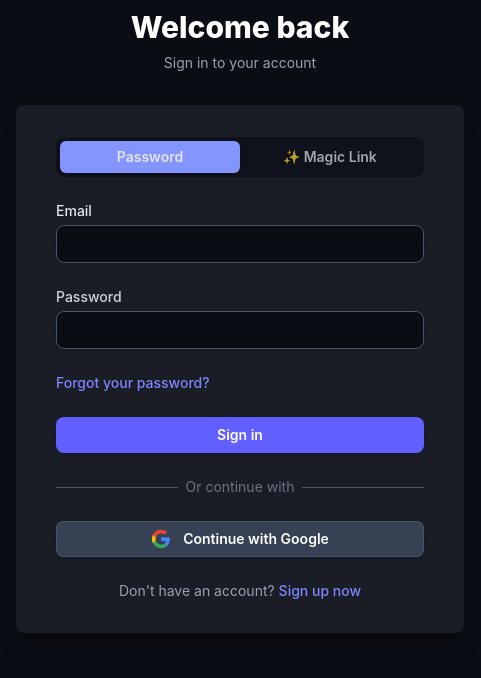
Test: UserLoginForm Component › validates email input and prevents submission when invalid
This screenshot has width=481, height=678.
Type "not-an-email" into the field labelled "Email" at (240, 244), box [56,225,424,263]
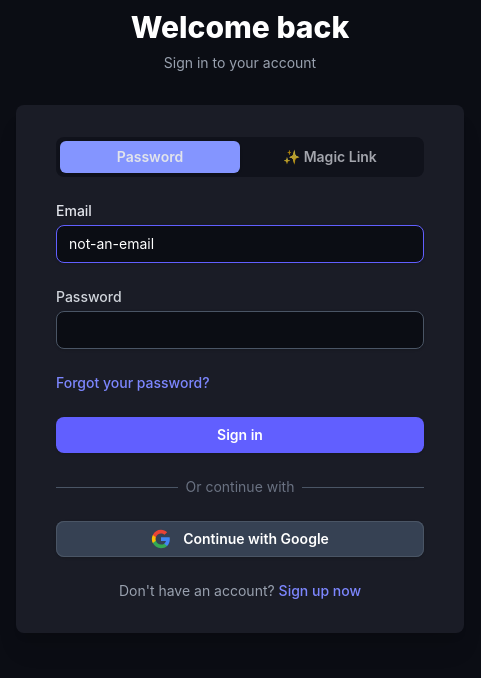
Type "ValidPassword123!" into the password field labelled "Password" at (240, 330), box [56,311,424,349]
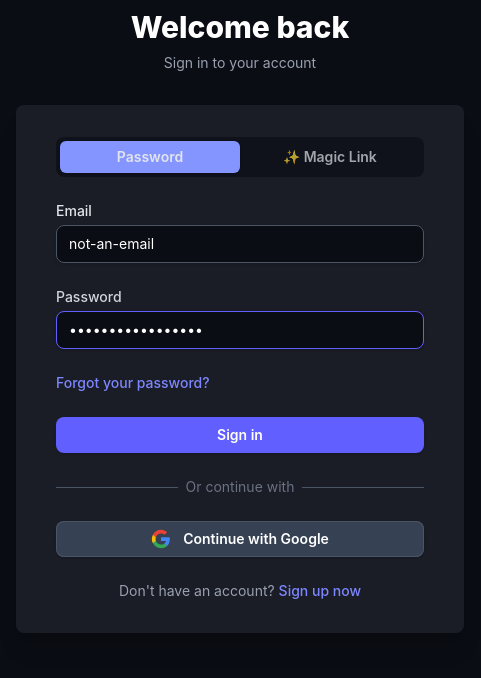
Submit the form, box [56,201,424,453]
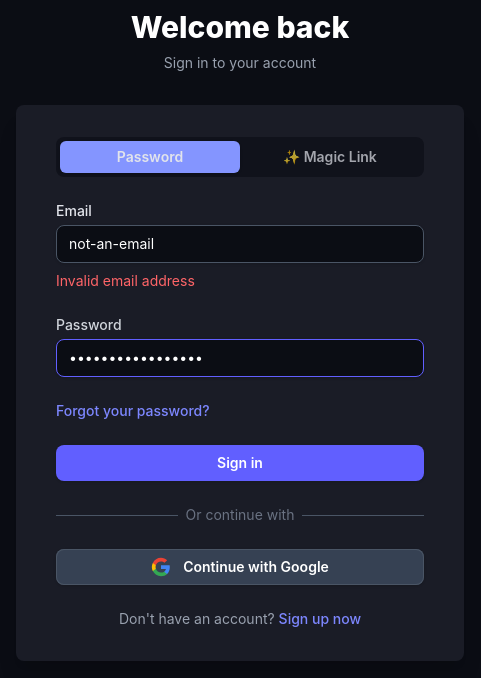
Check: the text "Invalid email address" is shown, box [56,272,195,289]
